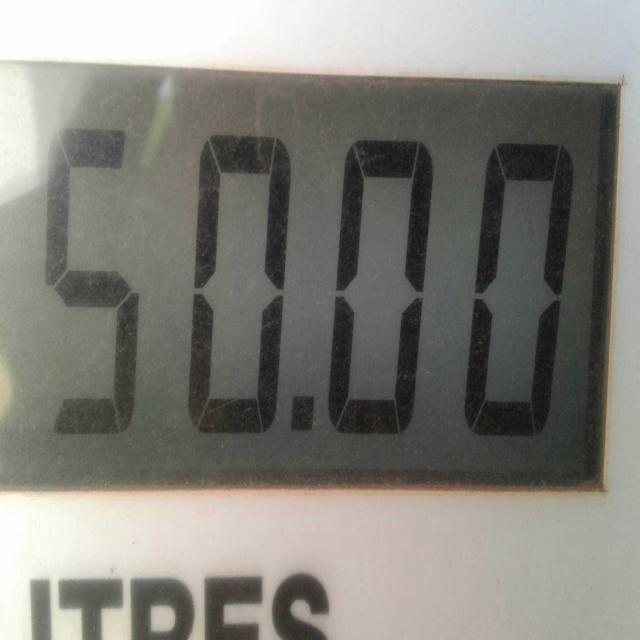.: (282, 379, 326, 466)
0: (318, 115, 442, 448), (456, 134, 579, 457), (172, 122, 292, 437)
5: (31, 113, 148, 457)
